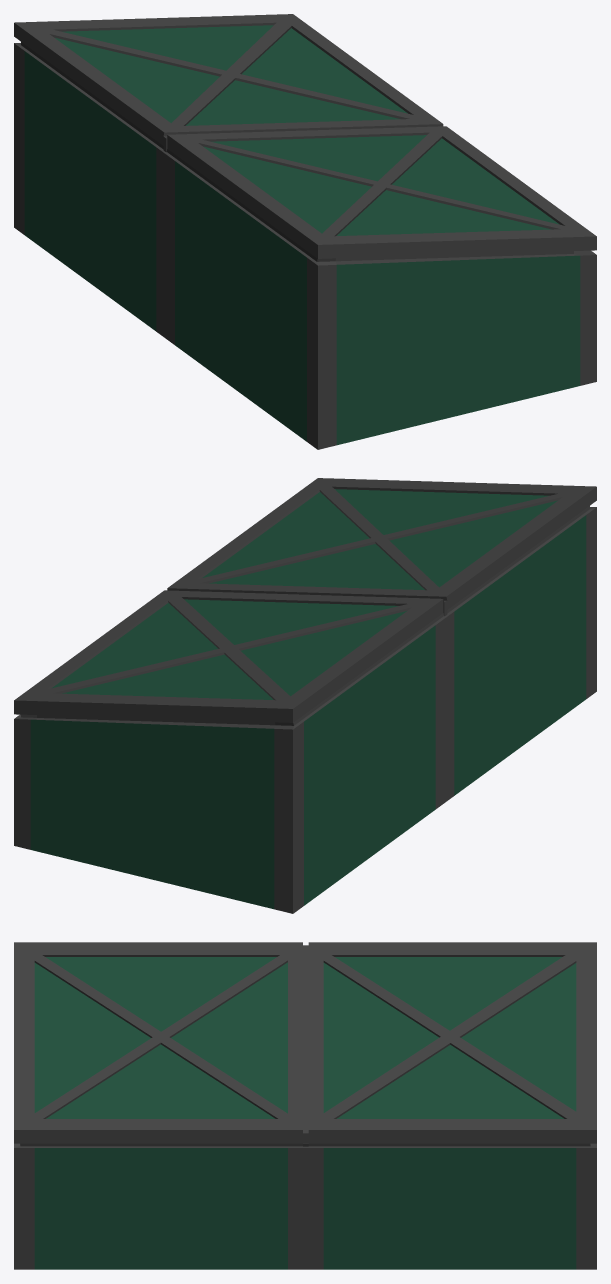
Rendered from TachoBasura.fbx.
The picture shows the model from 3 angles, top to bottom: view 1: azimuth 30°, elevation 25°; view 2: azimuth 150°, elevation 25°; view 3: azimuth 270°, elevation 25°; orthographic projection. The views are drawn at different scales.
Parts seen in each view (by area): view 1: Cube.006; view 2: Cube.006; view 3: Cube.006.
Part boxes in pixels (box(x1,y1,x2,y2)): Cube.006: box(14, 14, 596, 449); Cube.006: box(14, 478, 596, 913); Cube.006: box(14, 942, 596, 1269).
Size of the model in its own units: 320 by 224 by 601.
